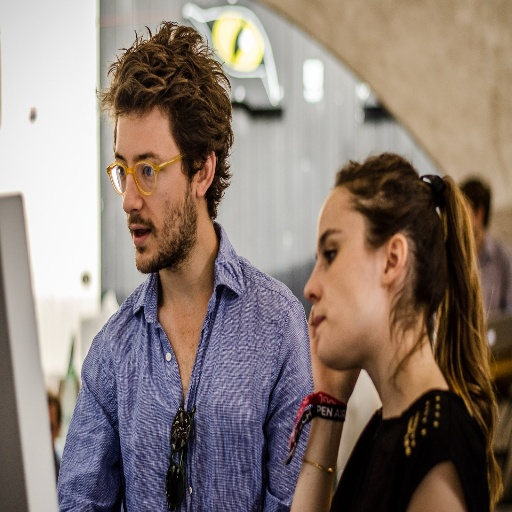hand: (308, 299, 360, 393)
